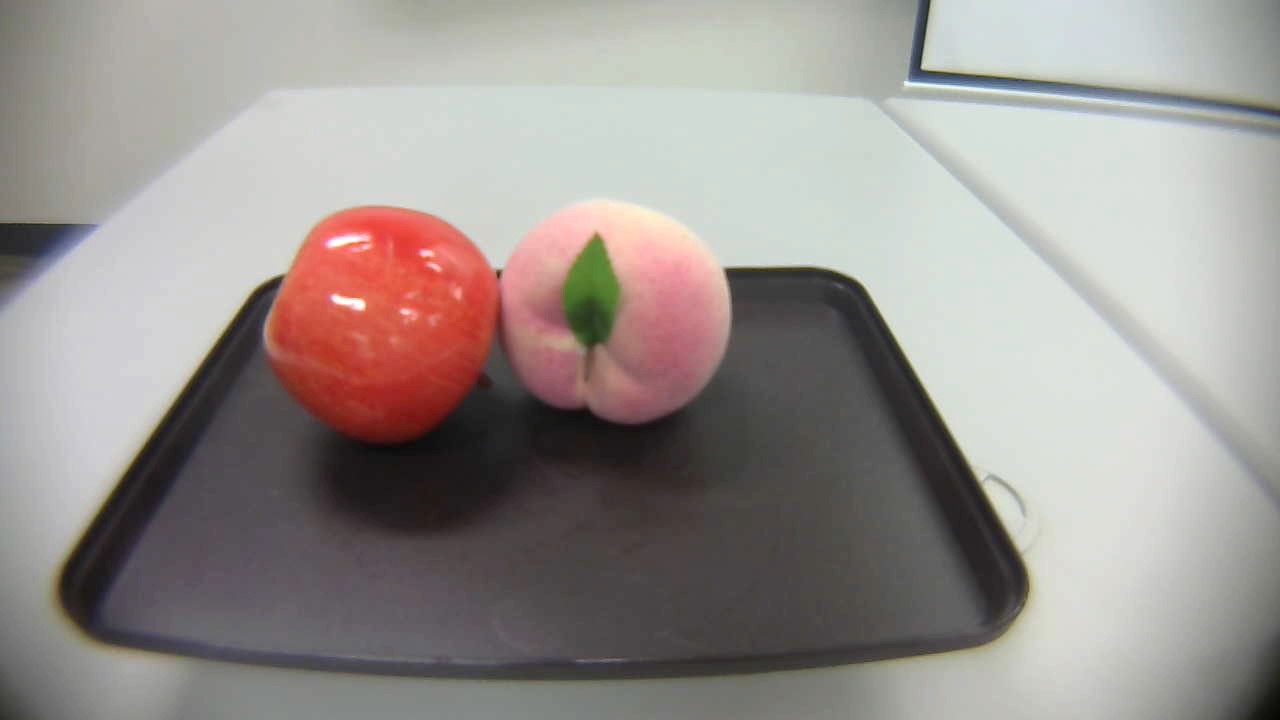peach: (497, 187, 746, 458)
red apple: (265, 205, 509, 453)
